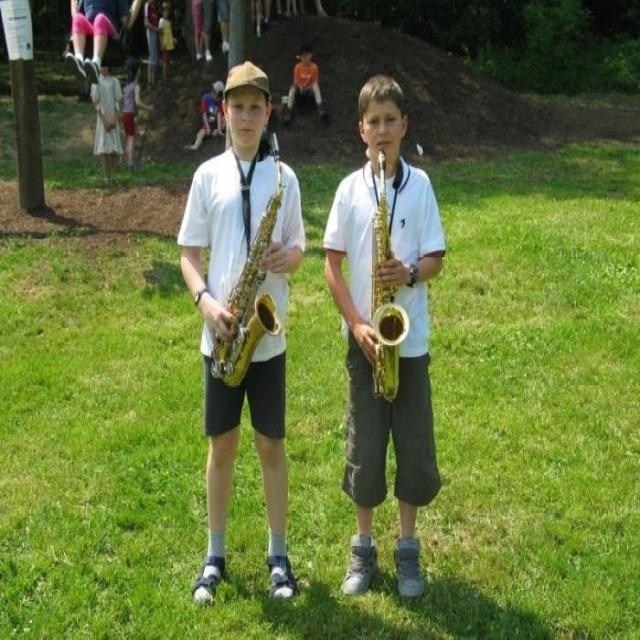saxophone: (206, 132, 288, 392), (363, 146, 411, 405)
